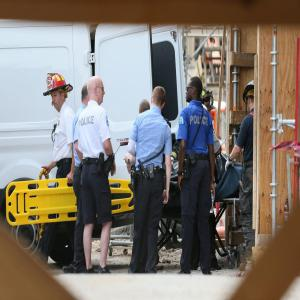none: (186, 77, 204, 105), (88, 78, 105, 107), (153, 87, 167, 110), (82, 84, 92, 107), (139, 101, 151, 115)
red: (50, 75, 67, 110)
yellow: (246, 85, 256, 113)
